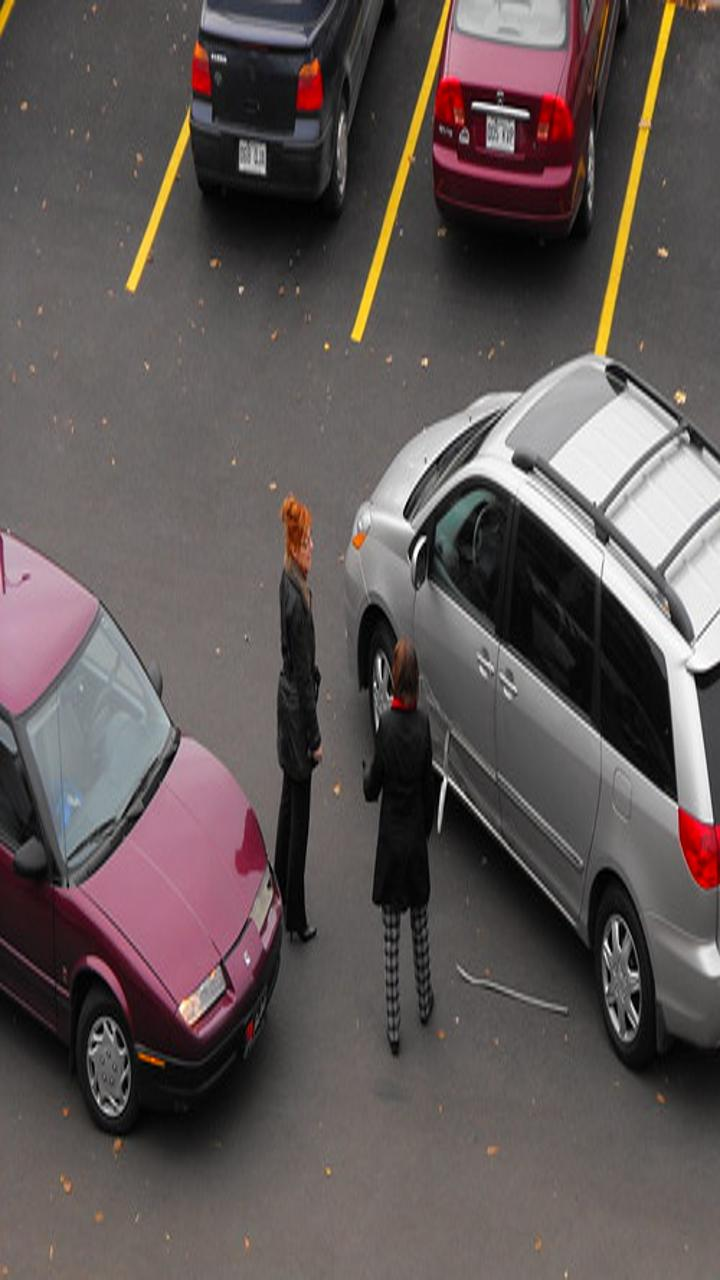pedestrian: (260, 491, 336, 953), (365, 619, 441, 1081)
vehicle: (372, 339, 720, 1075), (2, 536, 284, 1152), (422, 1, 626, 237), (182, 1, 374, 211)
